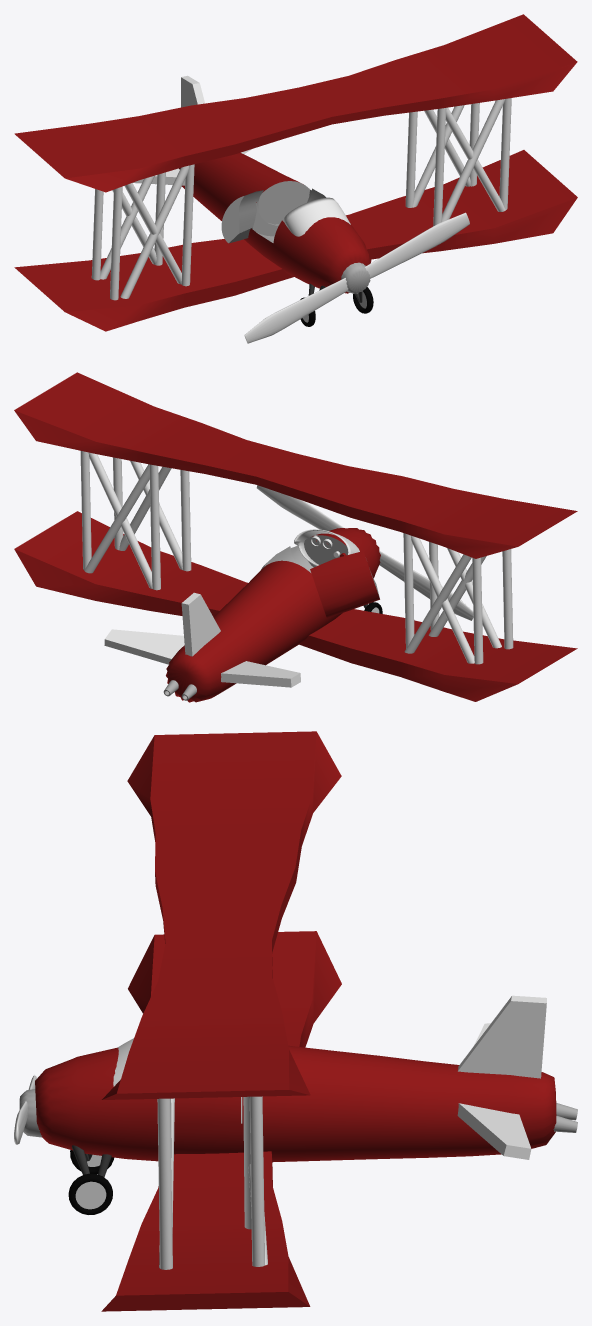
Rendered from flight-model-only 1.fbx.
3 renders of one model, top to bottom at view 1: azimuth 30°, elevation 25°; view 2: azimuth 150°, elevation 25°; view 3: azimuth 270°, elevation 25°, orthographic. The views are drawn at different scales.
Parts seen in each view (by area): view 1: pasted__pCube1, pasted__pCube8, pasted__pCylinder16, pasted__pCylinder6, pasted__pCylinder14, pPipe5, pasted__pCylinder30, pasted__pCylinder29, pasted__pCylinder23, pasted__pCylinder22, pasted__pCylinder24, pasted__pCylinder26 (+12 smaller); view 2: pasted__pCube1, pasted__pCube8, pasted__pCylinder16, pasted__pCylinder14, pasted__pCylinder6, pasted__pCube6, pasted__pCube5, pasted__pCube7, pasted__pCylinder28, pasted__pCylinder31, pasted__pCylinder21, pasted__pCylinder34 (+13 smaller); view 3: pasted__pCube1, pasted__pCylinder16, pasted__pCube8, pasted__pCube5, pasted__pCube6, pasted__pCylinder26, pasted__pCylinder27, pasted__pCylinder18, pasted__pCylinder28, polySurface3.
Part boxes in pixels (<box>): pasted__pCube1: <box>14,14,577,192</box>; pasted__pCube8: <box>14,150,577,331</box>; pasted__pCylinder16: <box>179,152,371,293</box>; pasted__pCylinder6: <box>244,212,469,343</box>; pasted__pCylinder14: <box>221,190,263,243</box>; pPipe5: <box>283,197,350,236</box>; pasted__pCylinder30: <box>120,165,188,298</box>; pasted__pCylinder29: <box>442,99,505,221</box>; pasted__pCylinder23: <box>181,164,194,286</box>; pasted__pCylinder22: <box>433,108,446,226</box>; pasted__pCylinder24: <box>110,186,122,300</box>; pasted__pCylinder26: <box>499,98,511,209</box>; pasted__pCube1: <box>14,372,577,558</box>; pasted__pCube8: <box>14,511,577,701</box>; pasted__pCylinder16: <box>166,528,380,702</box>; pasted__pCylinder14: <box>310,551,379,617</box>; pasted__pCylinder6: <box>256,485,473,620</box>; pasted__pCube6: <box>104,629,184,664</box>; pasted__pCube5: <box>181,592,220,656</box>; pasted__pCube7: <box>221,661,300,687</box>; pasted__pCylinder28: <box>88,452,152,588</box>; pasted__pCylinder31: <box>411,535,474,663</box>; pasted__pCylinder21: <box>149,464,160,590</box>; pasted__pCylinder34: <box>84,464,149,573</box>; pasted__pCube1: <box>102,731,341,1099</box>; pasted__pCylinder16: <box>35,1045,556,1161</box>; pasted__pCube8: <box>101,931,341,1311</box>; pasted__pCube5: <box>458,995,546,1078</box>; pasted__pCube6: <box>457,1103,531,1159</box>; pasted__pCylinder26: <box>157,1098,172,1269</box>; pasted__pCylinder27: <box>249,1096,264,1266</box>; pasted__pCylinder18: <box>174,1097,240,1123</box>; pasted__pCylinder28: <box>243,1096,251,1229</box>; polySurface3: <box>68,1173,112,1214</box>.
Bounding box in the file's own units: 0.4649 × 0.1712 × 0.3018.
